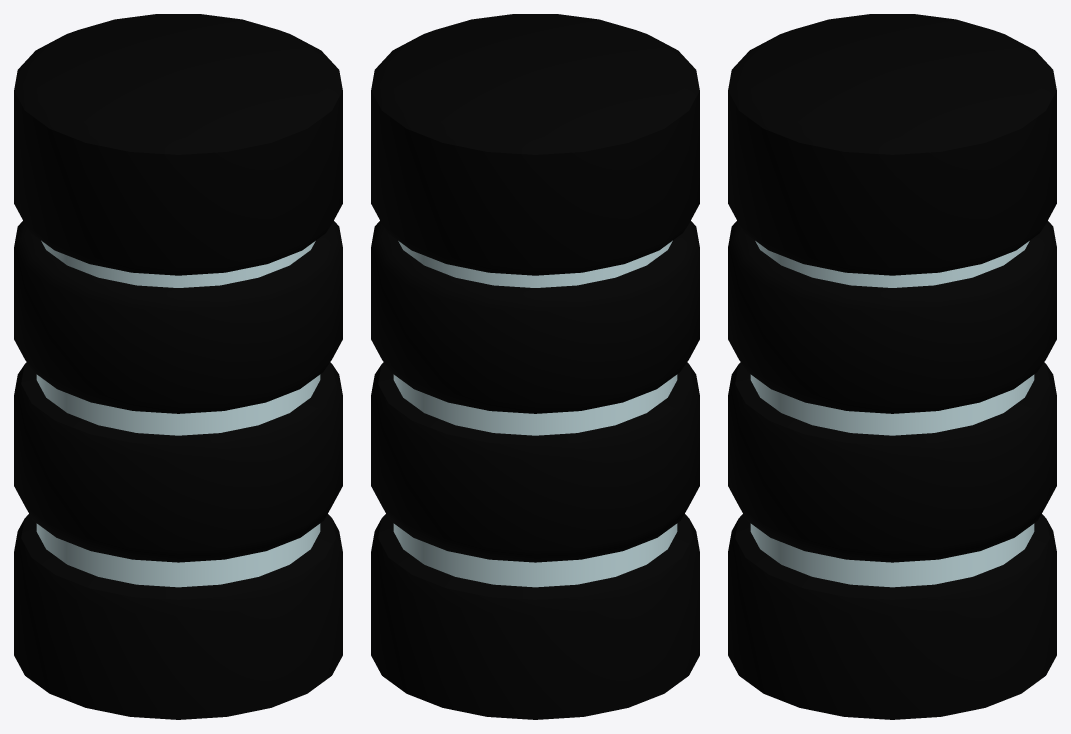
The picture shows the model from 3 angles, left to right: view 1: azimuth 30°, elevation 25°; view 2: azimuth 150°, elevation 25°; view 3: azimuth 270°, elevation 25°; orthographic projection.
Visible parts, largest first — view 1: Cylinder-Mat.1 (×4), Cylinder-Mat (×3); view 2: Cylinder-Mat.1 (×4), Cylinder-Mat (×3); view 3: Cylinder-Mat.1 (×4), Cylinder-Mat (×3).
Part boxes in pixels (x1,y1,x2,y2): Cylinder-Mat.1 (×4): [14, 14, 342, 719]; Cylinder-Mat (×3): [36, 240, 320, 587]; Cylinder-Mat.1 (×4): [371, 14, 699, 719]; Cylinder-Mat (×3): [393, 240, 677, 587]; Cylinder-Mat.1 (×4): [728, 14, 1056, 719]; Cylinder-Mat (×3): [750, 241, 1034, 587].
Bounding box in the file's own units: 63.85 × 128 × 64.03.
